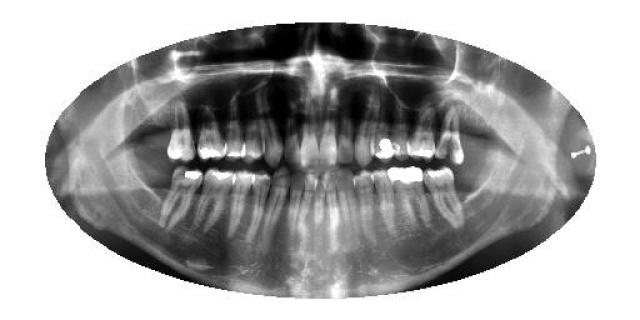Cavity: (435, 106, 464, 164)
Fillings: (159, 166, 205, 229), (158, 168, 204, 228), (388, 165, 428, 230), (195, 168, 235, 232), (167, 100, 195, 164), (405, 104, 436, 161), (198, 105, 226, 164), (375, 101, 393, 164)
